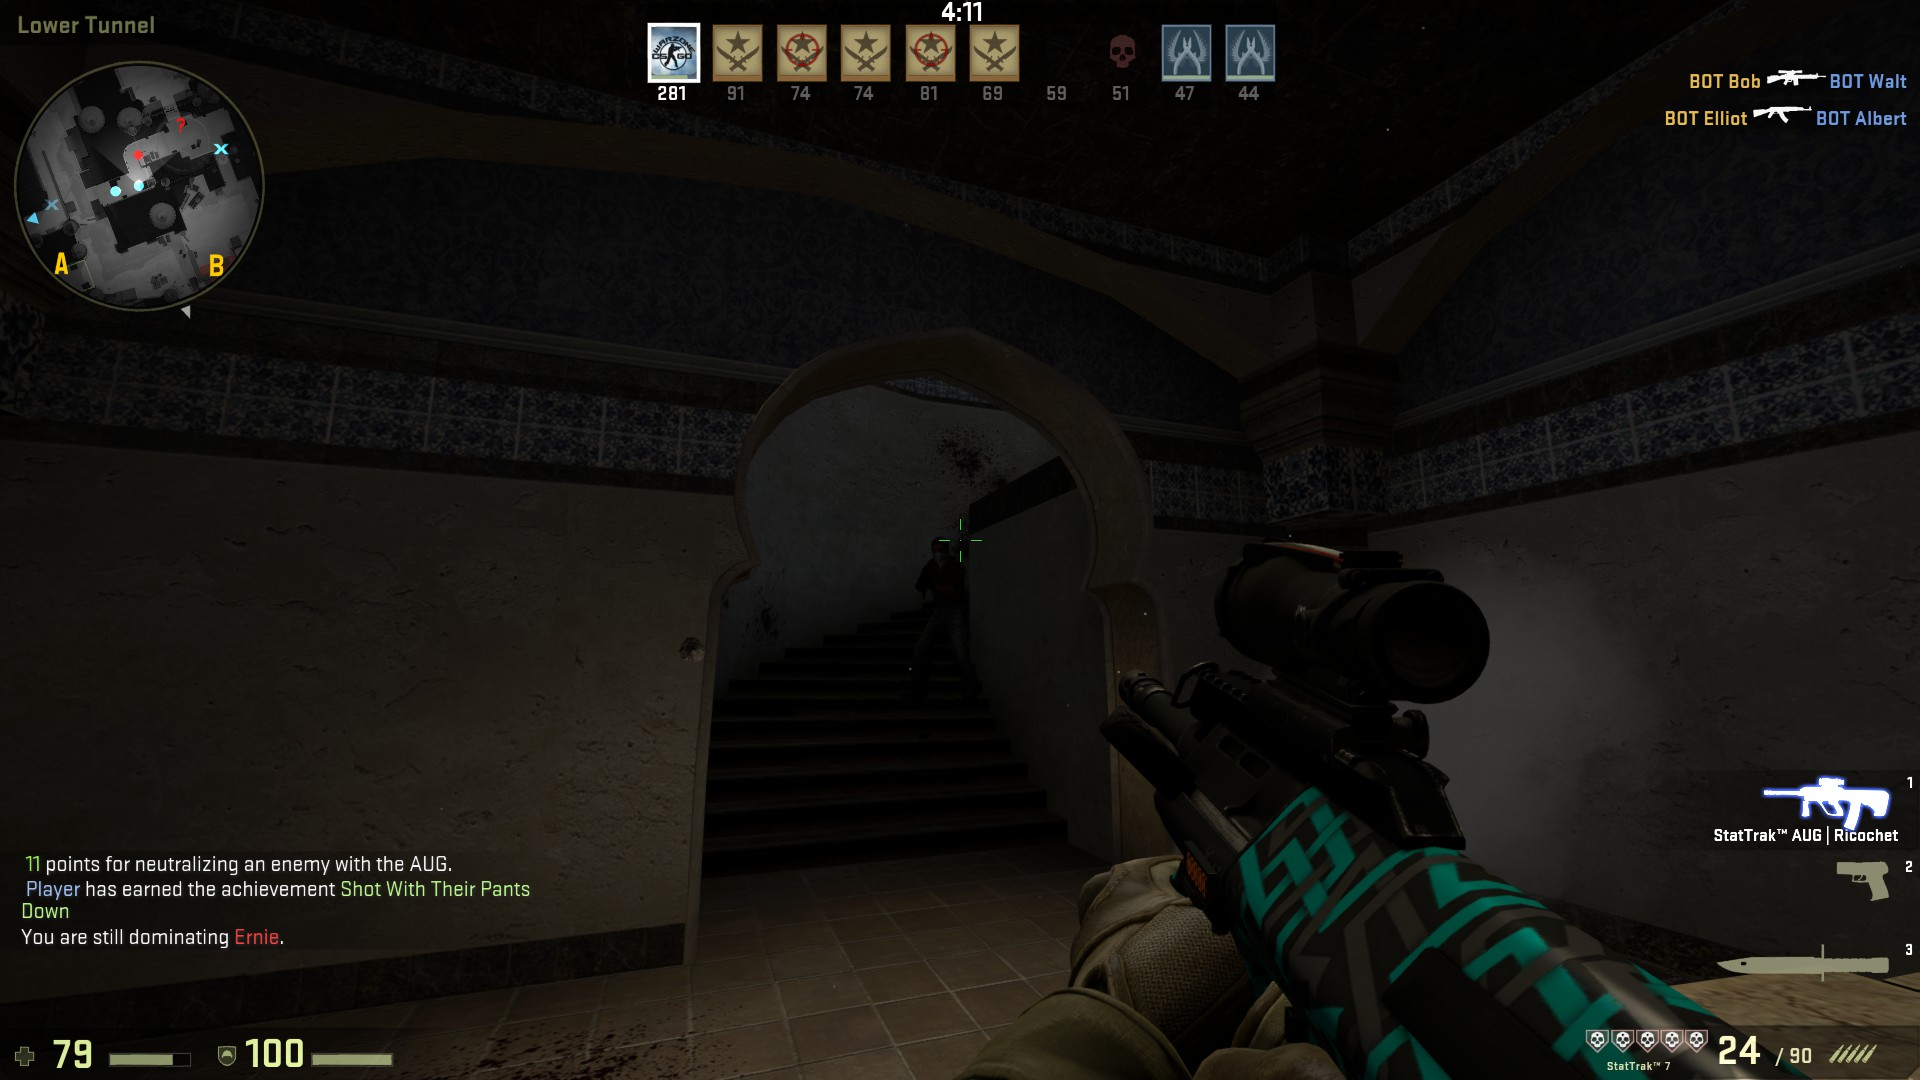t: (911, 534, 967, 702)
th: (928, 531, 957, 568)
